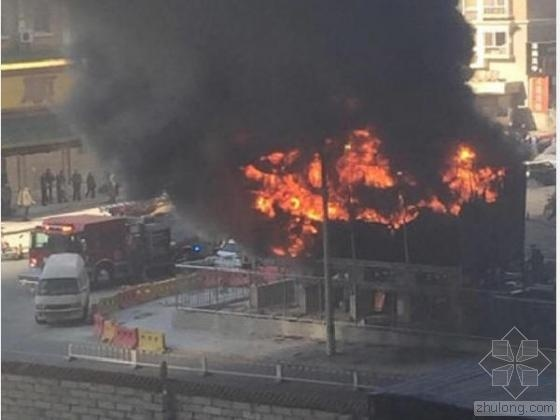fire: (248, 127, 504, 250)
